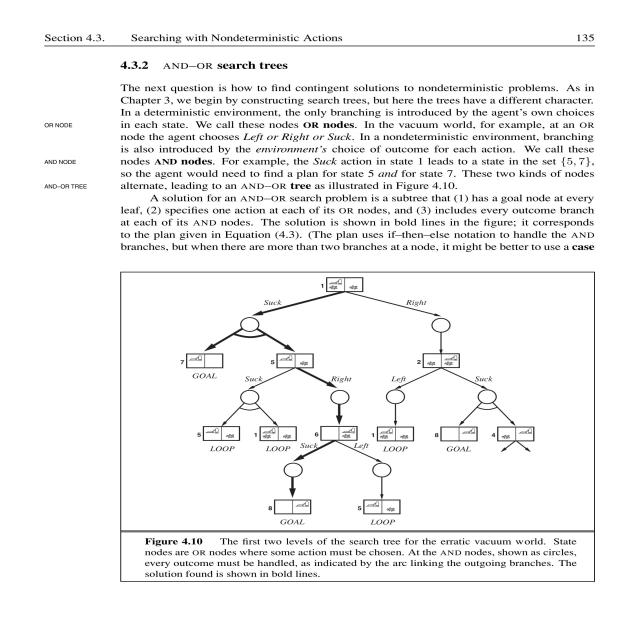diagram: (96, 266, 640, 590)
